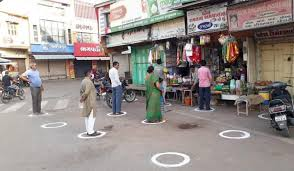Social Distance: (4, 52, 244, 159)
